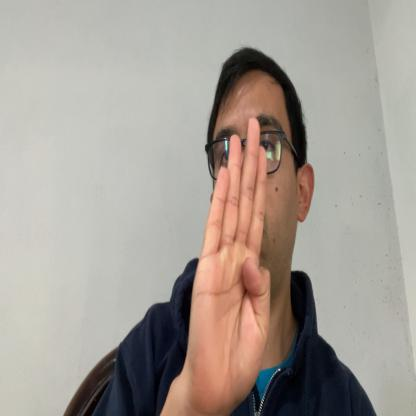B: (188, 118, 271, 410)
